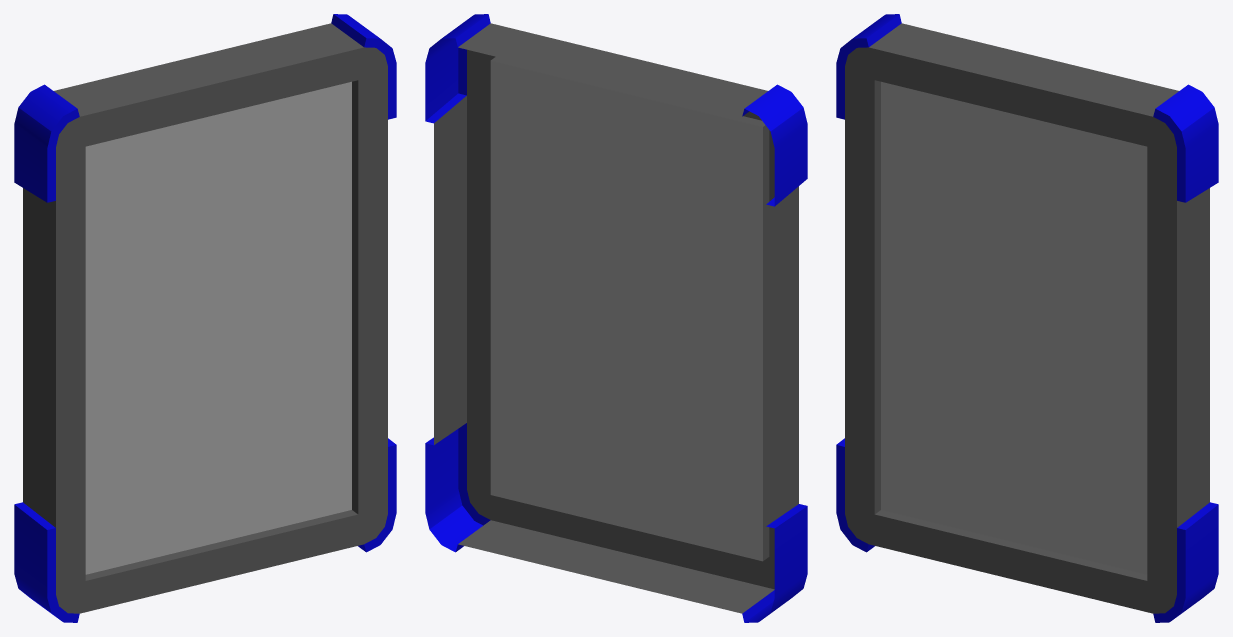
Rendered from LoreTablet.fbx.
3 views of the same model, side by side, from view 1: azimuth 30°, elevation 25°; view 2: azimuth 150°, elevation 25°; view 3: azimuth 330°, elevation 25° (orthographic).
Parts seen in each view (by area): view 1: LoreTablet; view 2: LoreTablet; view 3: LoreTablet.
Part boxes in pixels (<box>): LoreTablet: <box>14,14,396,622</box>; LoreTablet: <box>425,14,807,622</box>; LoreTablet: <box>836,14,1218,622</box>.
Size of the model in its own units: 1.05 by 1.48 by 0.1721.
